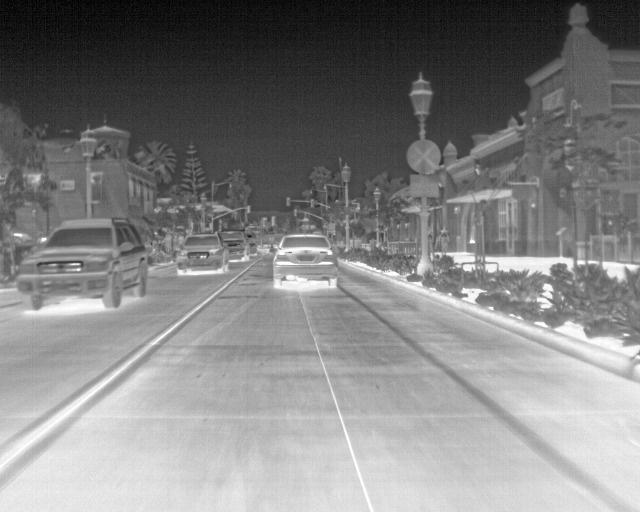bicycle: (14, 213, 152, 311), (269, 230, 341, 286), (176, 230, 229, 273), (221, 228, 245, 262), (243, 230, 260, 257)
